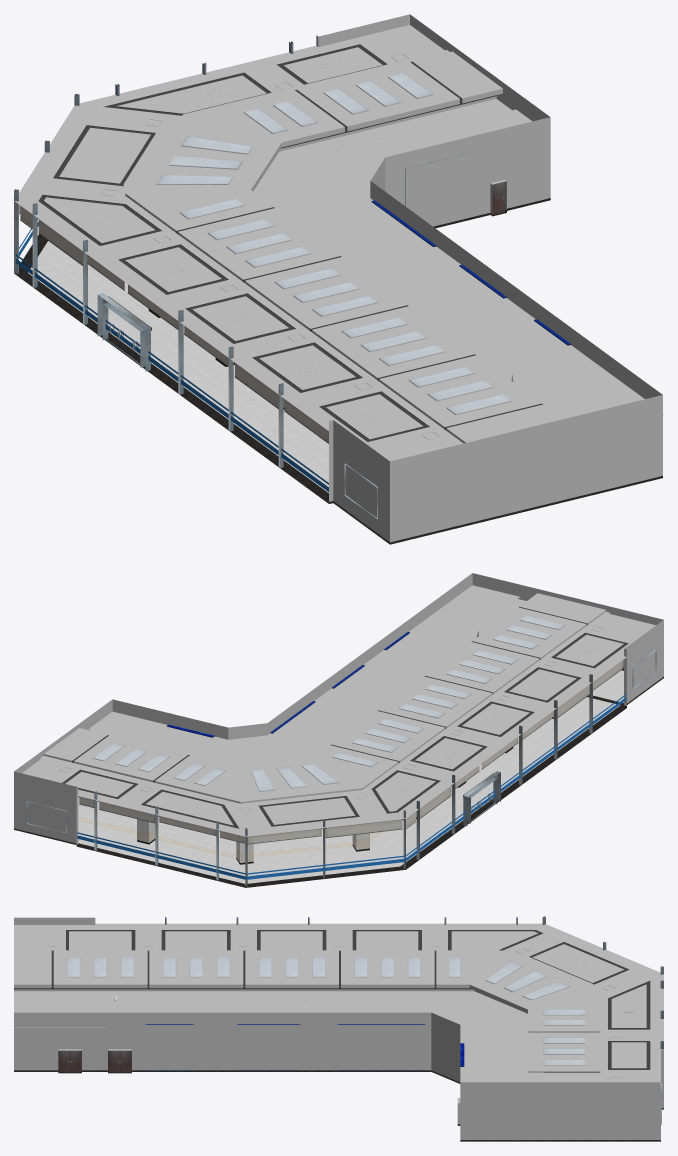
File: 3dgj_jyjy_CJ.FBX
3 renders of one model, top to bottom at view 1: azimuth 30°, elevation 25°; view 2: azimuth 150°, elevation 25°; view 3: azimuth 270°, elevation 25°, orthographic. The views are drawn at different scales.
Parts seen in each view (by area): view 1: 3dgj_jyjy_CJ06, 3dgj_jyjy_CJ09, 3dgj_jyjy_CJ13, 3dgj_jyjy_CJ08, 3dgj_jyjy_CJ12, 3dgj_jyjy_CJ17, 3dgj_jyjy_CJ01; view 2: 3dgj_jyjy_CJ06, 3dgj_jyjy_CJ13, 3dgj_jyjy_CJ09, 3dgj_jyjy_CJ17, 3dgj_jyjy_CJ08, 3dgj_jyjy_CJ12, 3dgj_jyjy_CJ01, 3dgj_jyjy_CJ02, 3dgj_jyjy_CJ20, 3dgj_jyjy_CJ14; view 3: 3dgj_jyjy_CJ06, 3dgj_jyjy_CJ09, 3dgj_jyjy_CJ08, 3dgj_jyjy_CJ12, 3dgj_jyjy_CJ16, 3dgj_jyjy_CJ14.
Boxes of the visible parts, <box> form: 3dgj_jyjy_CJ06: <box>14,14,663,542</box>; 3dgj_jyjy_CJ09: <box>14,41,514,468</box>; 3dgj_jyjy_CJ13: <box>28,54,439,492</box>; 3dgj_jyjy_CJ08: <box>38,44,542,441</box>; 3dgj_jyjy_CJ12: <box>14,198,662,544</box>; 3dgj_jyjy_CJ17: <box>18,204,328,443</box>; 3dgj_jyjy_CJ01: <box>15,218,328,491</box>; 3dgj_jyjy_CJ06: <box>14,573,663,844</box>; 3dgj_jyjy_CJ13: <box>59,627,623,883</box>; 3dgj_jyjy_CJ09: <box>93,615,592,887</box>; 3dgj_jyjy_CJ17: <box>78,660,623,844</box>; 3dgj_jyjy_CJ08: <box>62,606,628,828</box>; 3dgj_jyjy_CJ12: <box>14,667,663,887</box>; 3dgj_jyjy_CJ01: <box>77,694,626,879</box>; 3dgj_jyjy_CJ02: <box>78,817,382,858</box>; 3dgj_jyjy_CJ20: <box>137,711,553,862</box>; 3dgj_jyjy_CJ14: <box>166,632,409,737</box>; 3dgj_jyjy_CJ06: <box>14,917,663,1139</box>; 3dgj_jyjy_CJ09: <box>67,916,663,1065</box>; 3dgj_jyjy_CJ08: <box>14,930,650,1072</box>; 3dgj_jyjy_CJ12: <box>14,1070,663,1141</box>; 3dgj_jyjy_CJ16: <box>57,1050,460,1125</box>; 3dgj_jyjy_CJ14: <box>145,1024,464,1070</box>.
Bounding box in the file's own units: 33.18 × 5.5 × 54.55.
